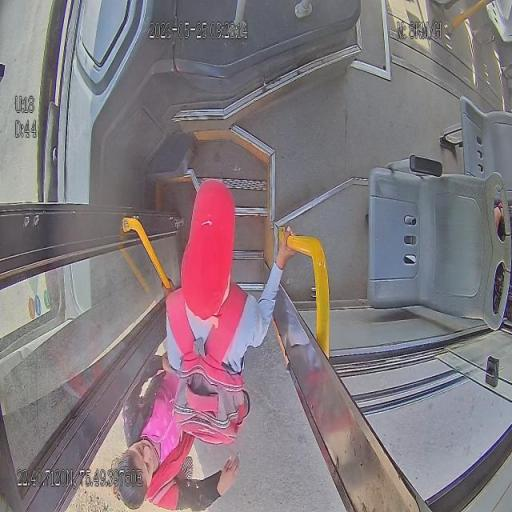persona: (161, 178, 297, 445), (118, 349, 239, 512)
